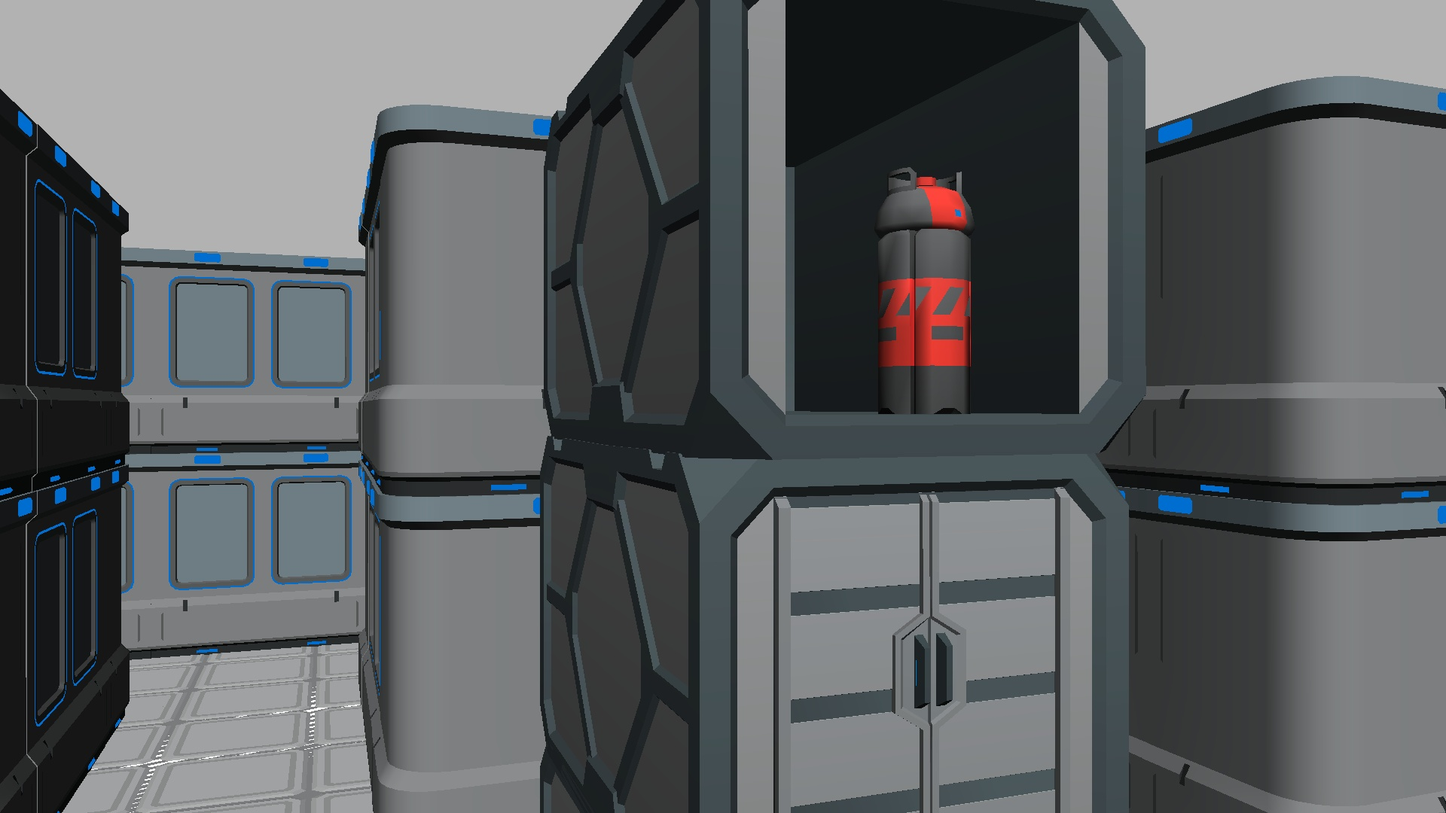red barrel: (876, 168, 974, 415)
